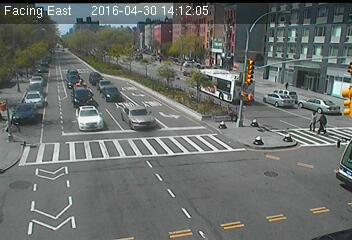neg: (144, 115, 158, 134), (97, 30, 111, 49), (241, 161, 255, 179), (218, 47, 231, 66), (225, 93, 237, 110), (96, 105, 108, 121), (131, 41, 143, 57), (46, 107, 58, 122), (194, 159, 205, 173), (139, 149, 149, 161), (174, 39, 183, 51), (187, 63, 195, 73)
pos: (314, 110, 333, 135), (305, 109, 321, 131), (4, 110, 20, 131), (283, 80, 291, 90)
